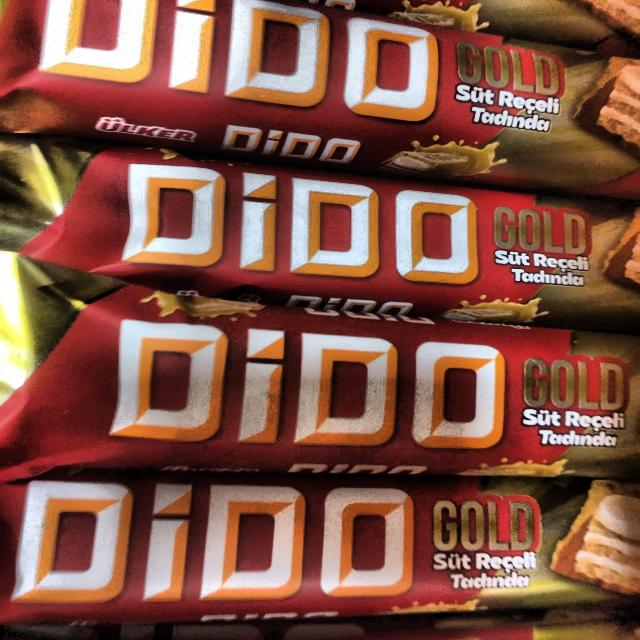Plastic: (0, 128, 635, 331), (0, 0, 636, 200), (5, 270, 631, 472), (18, 478, 638, 618)
